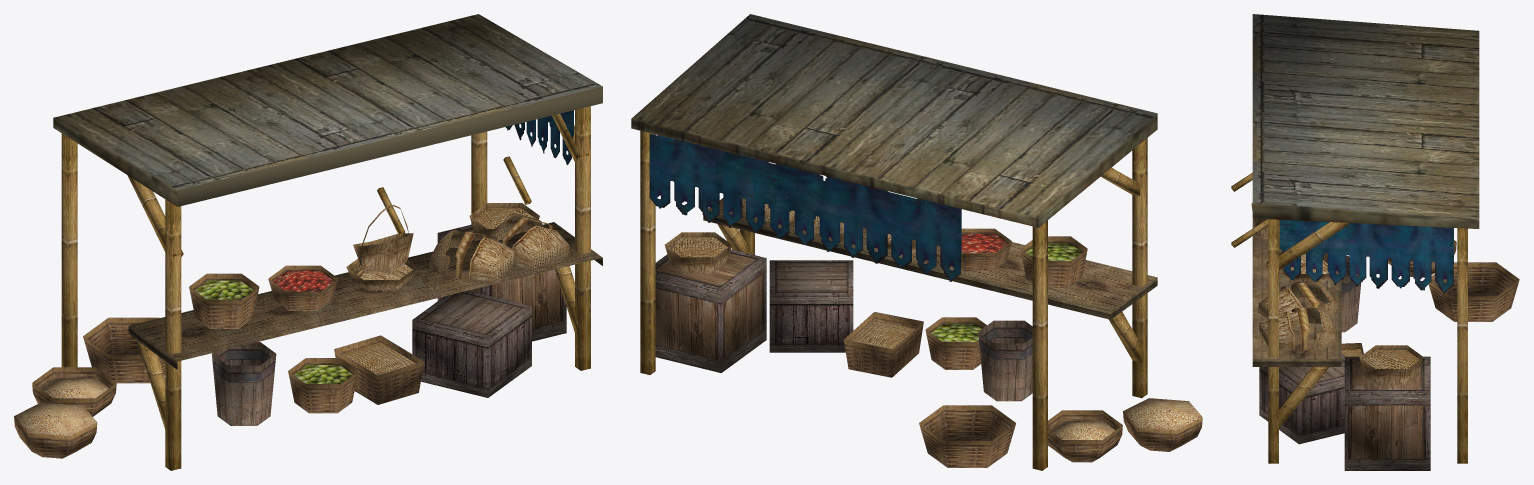
Rendered from w_etc03.glb.
The picture shows the model from 3 angles, left to right: view 1: azimuth 30°, elevation 25°; view 2: azimuth 150°, elevation 25°; view 3: azimuth 270°, elevation 25°; orthographic projection. The views are drawn at different scales.
Parts seen in each view (by area): view 1: w_etc03; view 2: w_etc03; view 3: w_etc03.
Part boxes in pixels (left/top/right/bottom): w_etc03: left=14, top=14, right=602, bottom=470; w_etc03: left=631, top=14, right=1202, bottom=470; w_etc03: left=1231, top=14, right=1519, bottom=470.
Size of the model in its own units: 5.57 by 2.85 by 2.84.
Materials: 8 (8 with a texture image).
